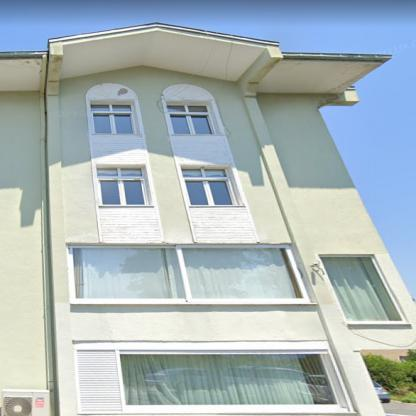window: (118, 352, 340, 407), (71, 247, 304, 299), (321, 257, 405, 322), (180, 168, 236, 205), (96, 167, 148, 204), (167, 104, 213, 134), (91, 104, 135, 134)
